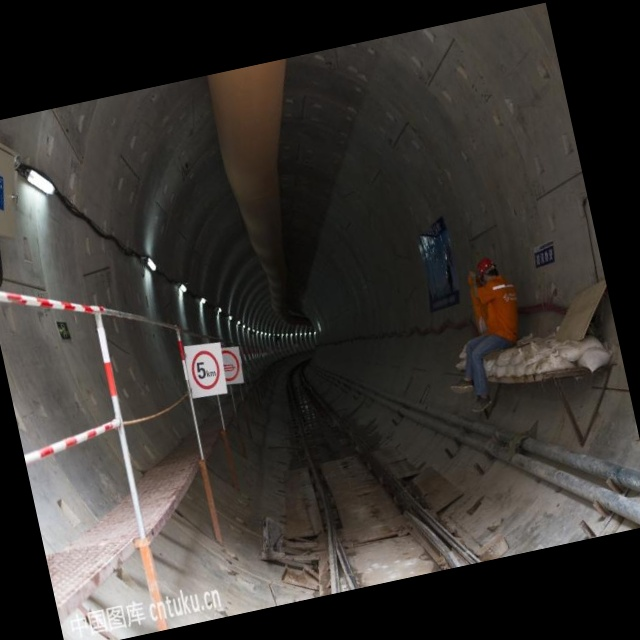Con_Casco: (474, 255, 500, 285)
